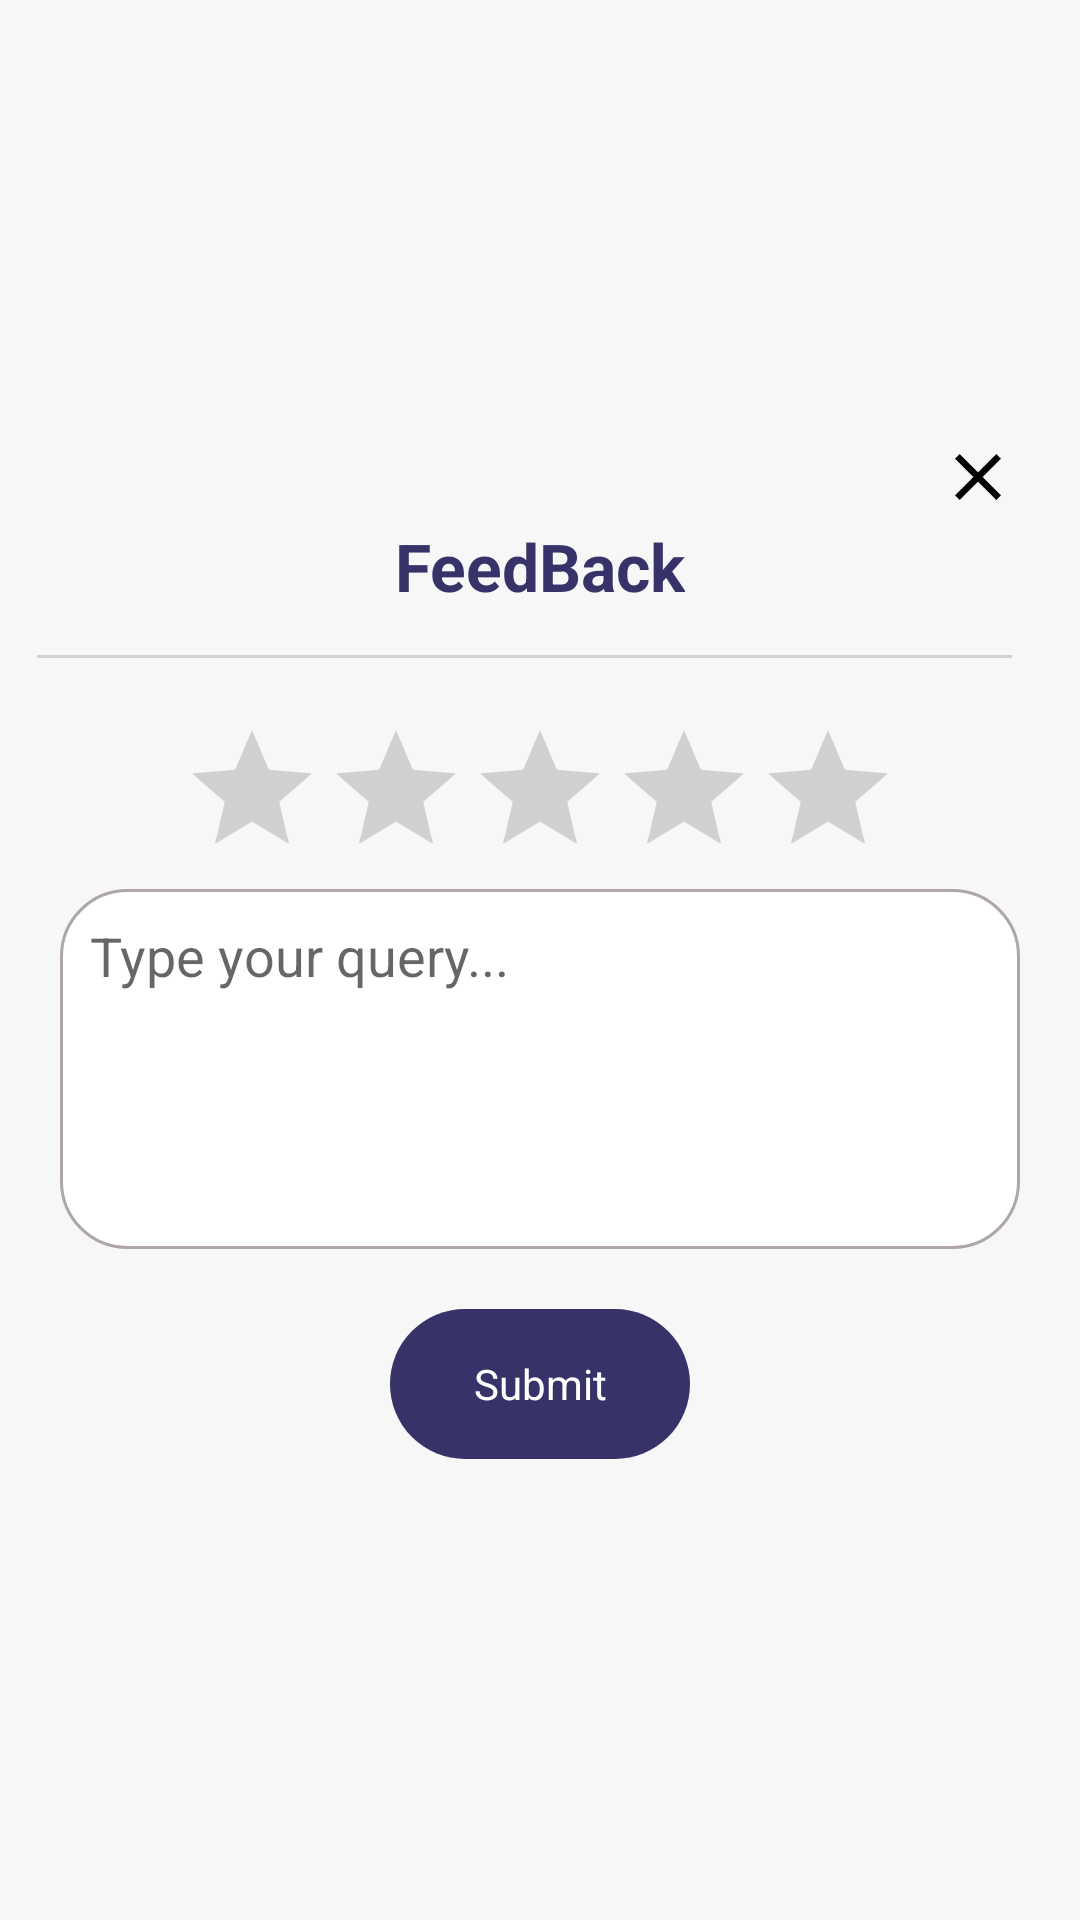

Icons on this 1080×1920 Android screen, each with its box as (x1, y1, x2, y2):
cancel: (955, 454, 1001, 500)
